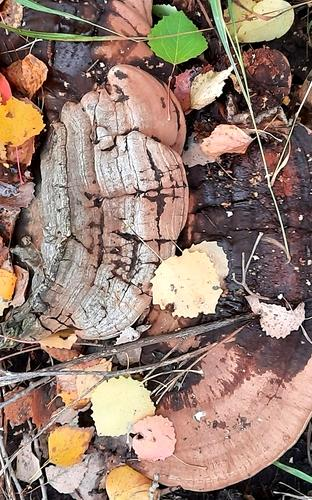Ganoderma - Fruit Body: (186, 118, 312, 496), (34, 62, 185, 336)
